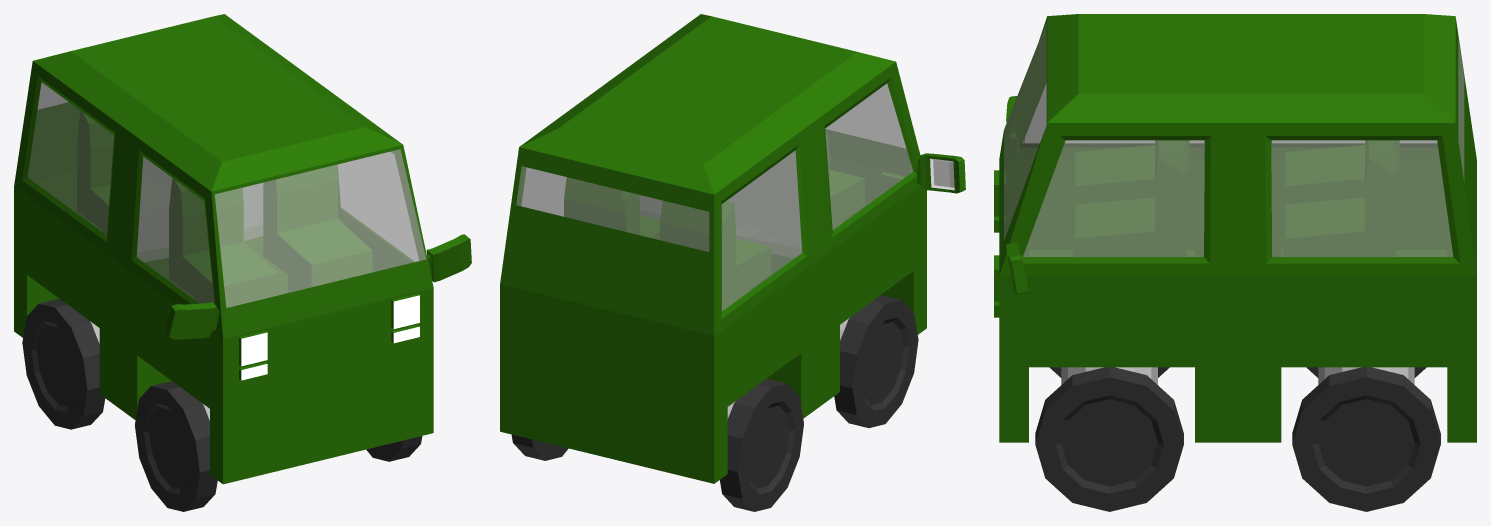
File: cars20.glb
The picture shows the model from 3 angles, left to right: view 1: azimuth 30°, elevation 25°; view 2: azimuth 150°, elevation 25°; view 3: azimuth 270°, elevation 25°; orthographic projection. The views are drawn at different scales.
Parts seen in each view (by area): view 1: Car20, Car20Tire1, Car20Tire2; view 2: Car20, Car20Tire2, Car20Tire1; view 3: Car20, Car20Tire1, Car20Tire2.
Boxes of the visible parts, bbox=[...] form: Car20: bbox=[14, 14, 471, 484]; Car20Tire1: bbox=[135, 381, 422, 511]; Car20Tire2: bbox=[22, 299, 105, 429]; Car20: bbox=[500, 14, 965, 483]; Car20Tire2: bbox=[511, 379, 803, 511]; Car20Tire1: bbox=[834, 295, 918, 427]; Car20: bbox=[994, 14, 1476, 442]; Car20Tire1: bbox=[1035, 367, 1183, 511]; Car20Tire2: bbox=[1292, 367, 1440, 511].
Bounding box in the file's own units: 2.29 × 2.5 × 2.77.
